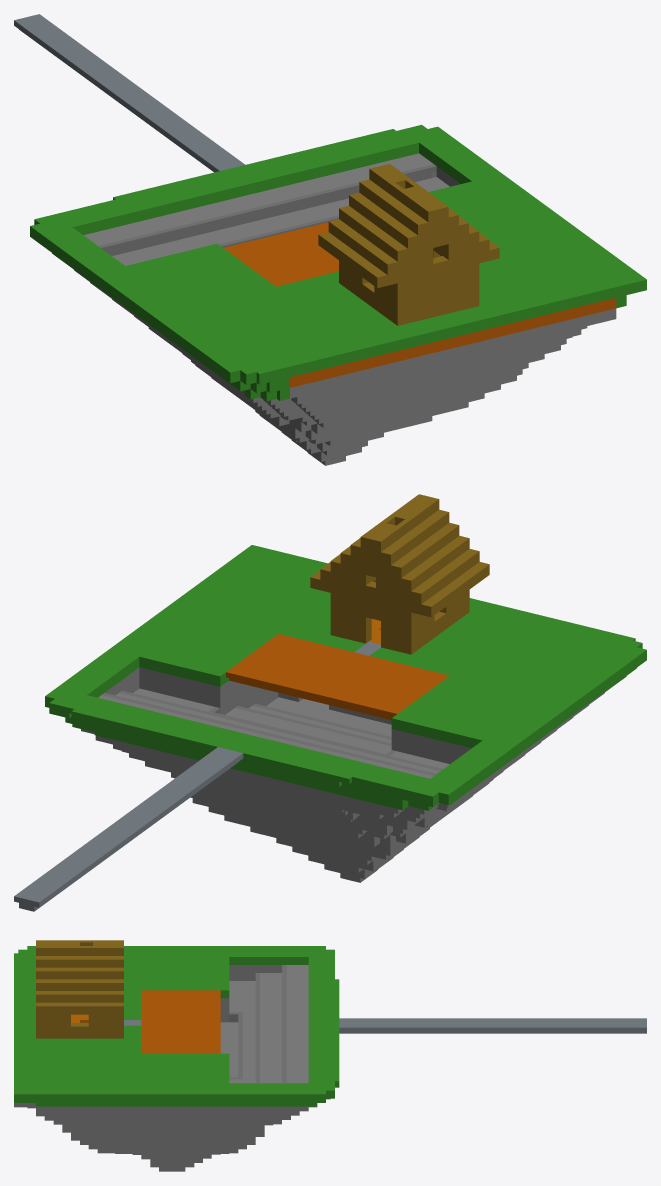
The model's file is island1-4.obj.
The picture shows the model from 3 angles, top to bottom: view 1: azimuth 30°, elevation 25°; view 2: azimuth 150°, elevation 25°; view 3: azimuth 270°, elevation 25°; orthographic projection. The views are drawn at different scales.
Bounding box in the file's own units: 8 × 5.8 × 14.4.
Materials: 1 (1 with a texture image).
